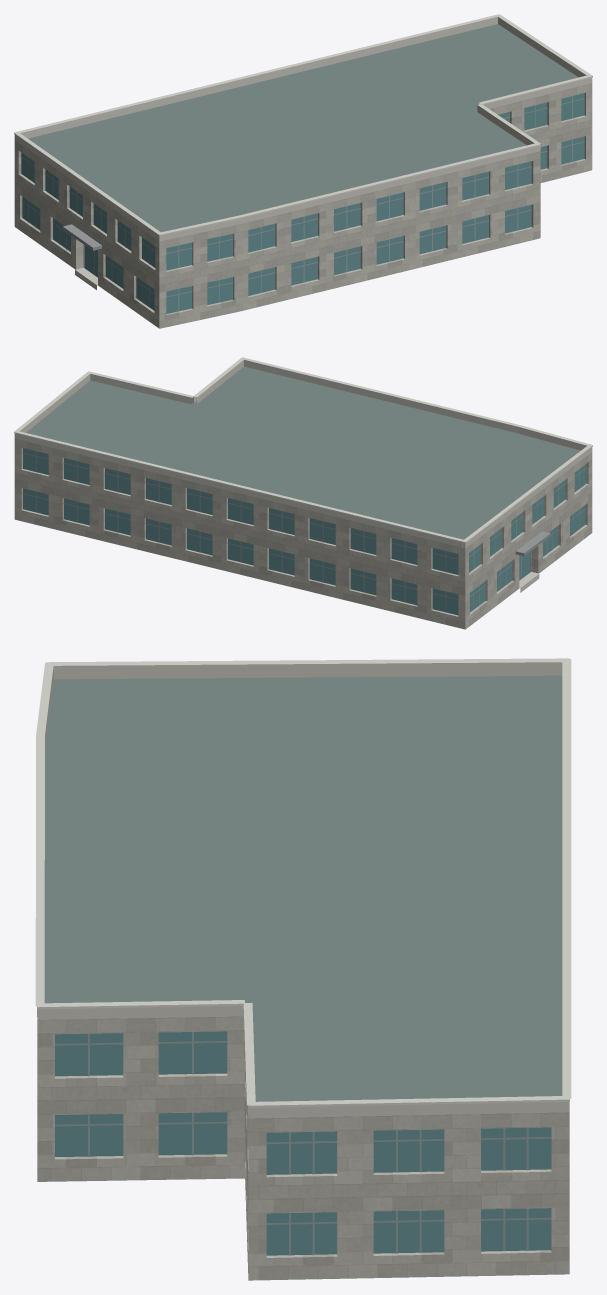
The picture shows the model from 3 angles, top to bottom: view 1: azimuth 30°, elevation 25°; view 2: azimuth 150°, elevation 25°; view 3: azimuth 270°, elevation 25°; orthographic projection. The views are drawn at different scales.
Parts seen in each view (by area): view 1: annexFour__roof, annexFour__wall, annexFour__glass, annexFour__parapet, annexFour__trim, annexFour__frame; view 2: annexFour__roof, annexFour__wall, annexFour__glass, annexFour__parapet, annexFour__trim, annexFour__frame; view 3: annexFour__roof, annexFour__wall, annexFour__glass, annexFour__trim, annexFour__parapet, annexFour__frame.
Part boxes in pixels (bbox=[...]): annexFour__roof: bbox=[15, 24, 589, 328]; annexFour__wall: bbox=[14, 83, 592, 328]; annexFour__glass: bbox=[21, 93, 584, 313]; annexFour__parapet: bbox=[14, 16, 592, 241]; annexFour__trim: bbox=[14, 14, 592, 235]; annexFour__frame: bbox=[21, 96, 584, 311]; annexFour__roof: bbox=[15, 366, 591, 629]; annexFour__wall: bbox=[14, 439, 592, 629]; annexFour__glass: bbox=[23, 448, 586, 615]; annexFour__parapet: bbox=[14, 360, 592, 548]; annexFour__trim: bbox=[14, 357, 592, 543]; annexFour__frame: bbox=[22, 451, 586, 612]; annexFour__roof: bbox=[37, 675, 569, 1280]; annexFour__wall: bbox=[37, 1016, 569, 1279]; annexFour__glass: bbox=[55, 1031, 551, 1255]; annexFour__trim: bbox=[35, 658, 571, 1107]; annexFour__parapet: bbox=[37, 662, 569, 1118]; annexFour__frame: bbox=[55, 1032, 551, 1255].
Size of the model in its own units: 43.36 by 8.2 by 21.64.
9 materials, 1 textured.
